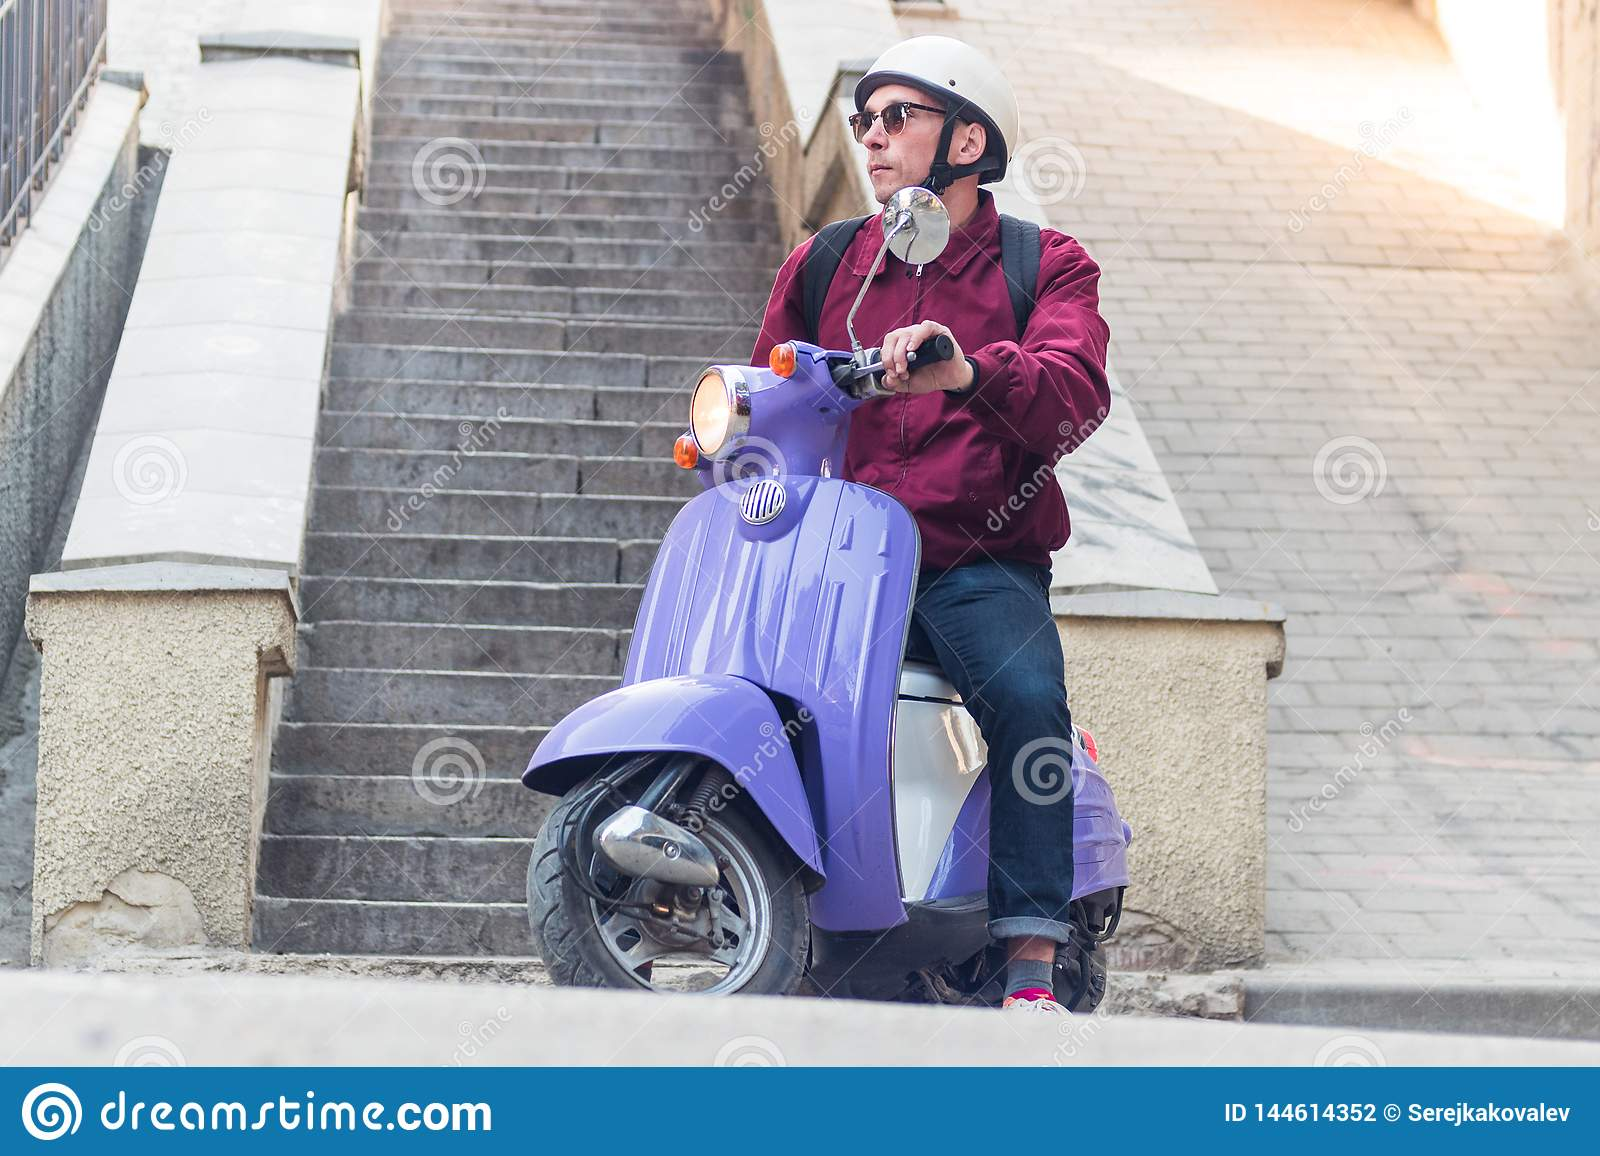helmet: (871, 29, 1021, 153)
